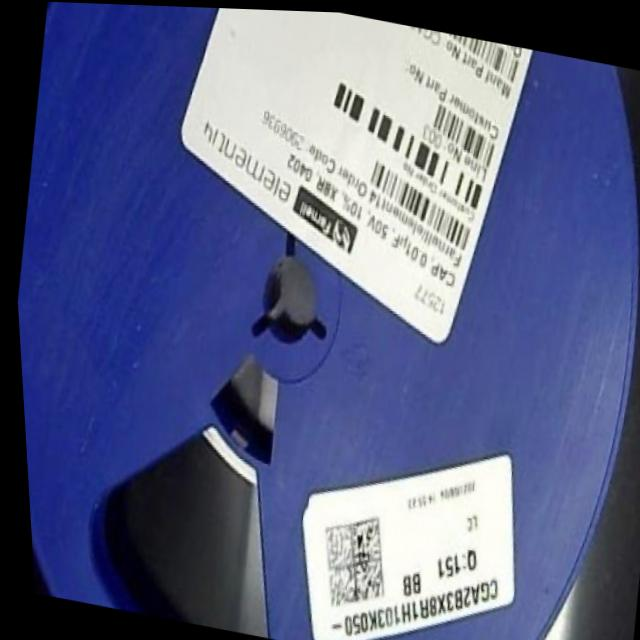datamatrix: (304, 502, 390, 618)
